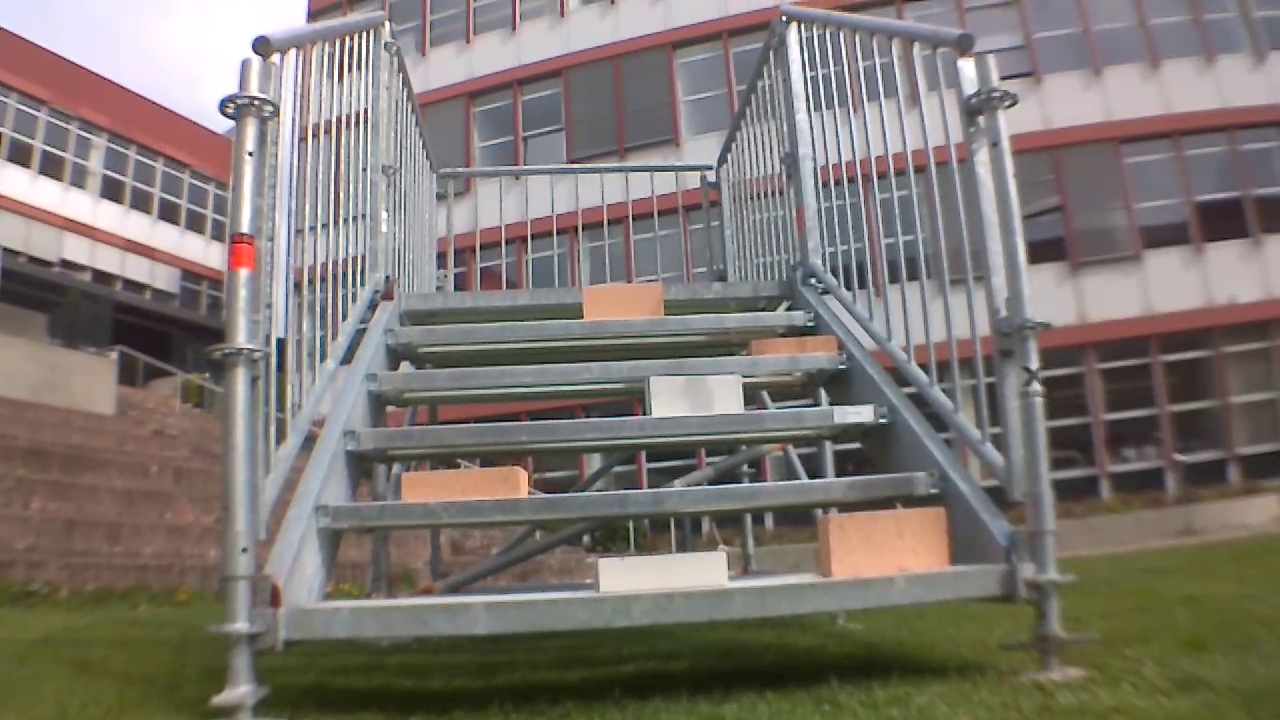brick: (820, 505, 953, 579), (597, 553, 726, 592), (396, 467, 531, 503), (650, 377, 741, 415), (580, 282, 664, 319), (744, 333, 838, 360)
edge: (285, 561, 1017, 643), (309, 473, 944, 528), (343, 406, 886, 451), (365, 350, 851, 392), (378, 309, 818, 348), (400, 280, 797, 308)
stairs: (229, 11, 1074, 679)
steps: (278, 277, 1023, 651)
